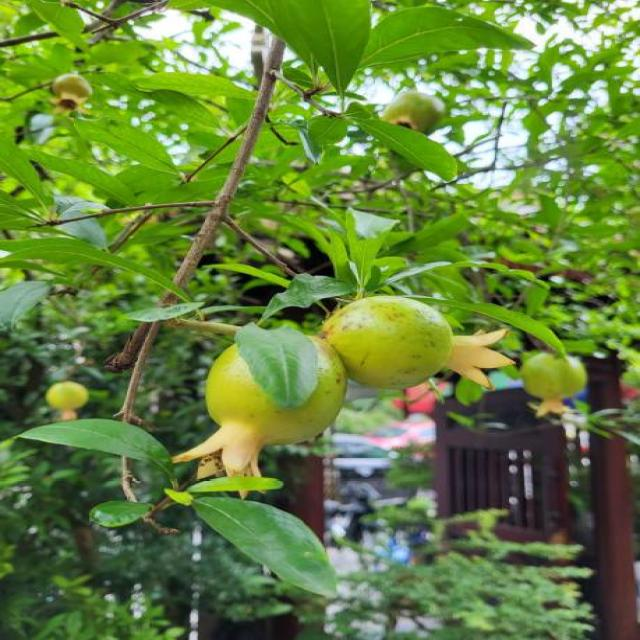Unripe: (171, 330, 345, 482), (323, 293, 518, 397)
